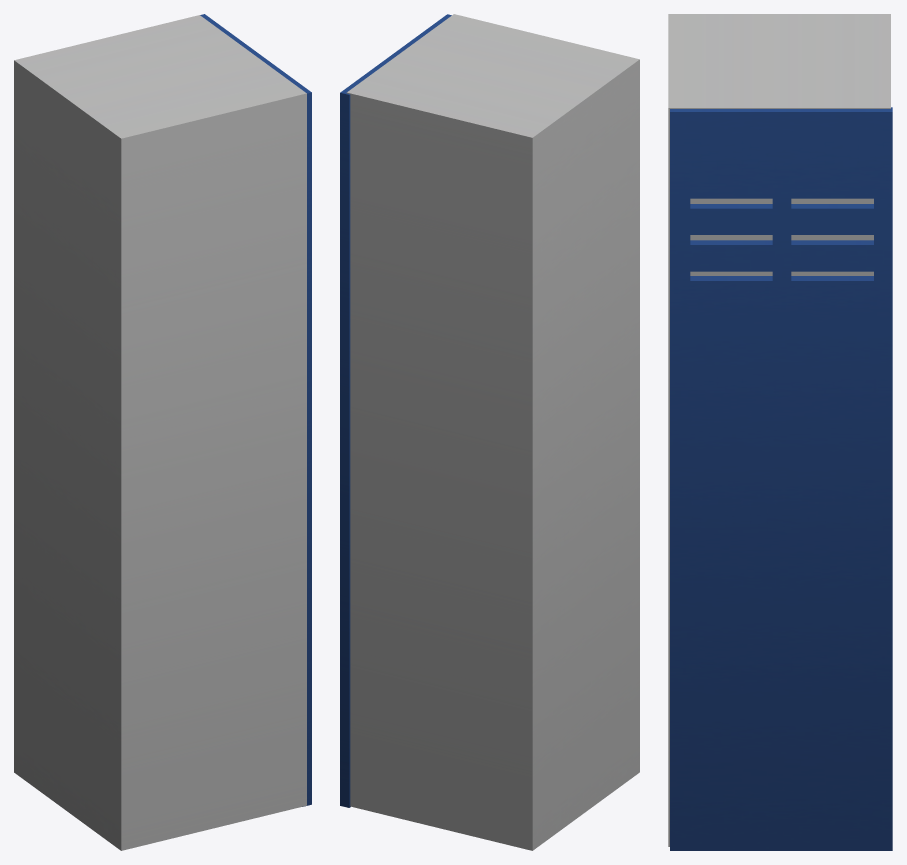
File: Taquilla.fbx
3 renders of one model, left to right at view 1: azimuth 30°, elevation 25°; view 2: azimuth 150°, elevation 25°; view 3: azimuth 270°, elevation 25°, orthographic. The views are drawn at different scales.
Visible parts, largest first — view 1: Caja taquilla, Puerta taquilla; view 2: Caja taquilla, Puerta taquilla; view 3: Puerta taquilla, Caja taquilla.
Part boxes in pixels (x1,y1,x2,y2): Caja taquilla: [14, 15, 306, 850]; Puerta taquilla: [200, 14, 311, 806]; Caja taquilla: [346, 14, 639, 850]; Puerta taquilla: [340, 14, 451, 807]; Puerta taquilla: [670, 107, 892, 850]; Caja taquilla: [668, 14, 890, 846].
Bounding box in the file's own units: 61.88 × 220 × 60.45.
